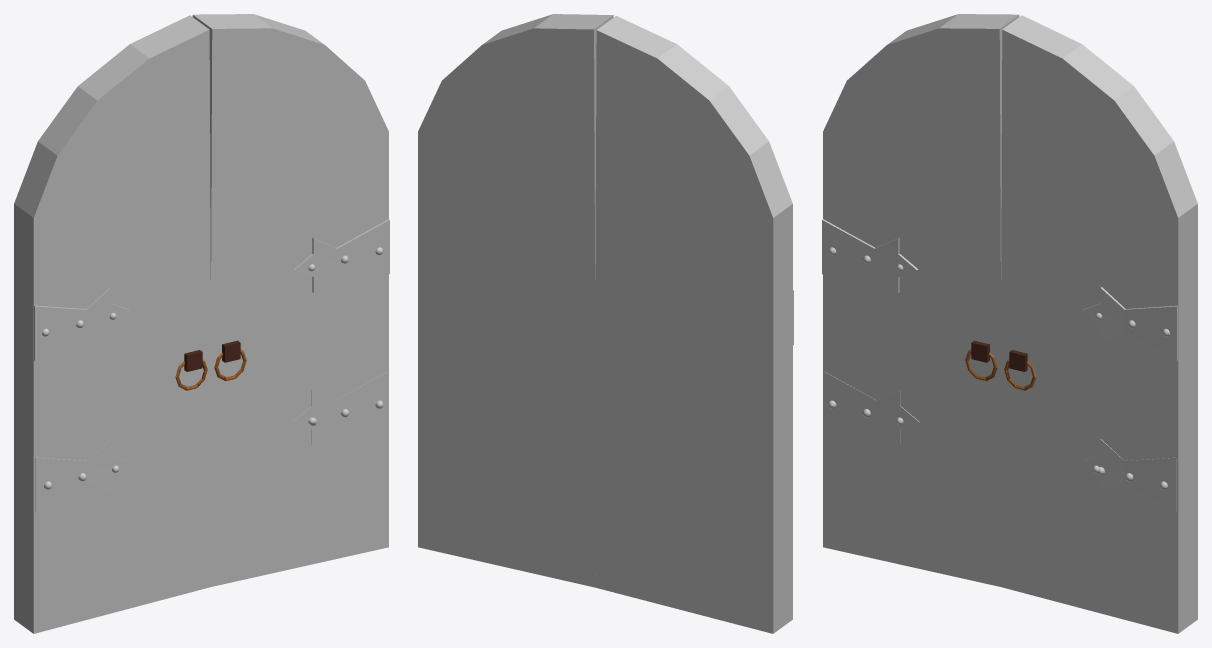
Rendered from pintu3.fbx.
3 views of the same model, side by side, from view 1: azimuth 30°, elevation 25°; view 2: azimuth 150°, elevation 25°; view 3: azimuth 330°, elevation 25° (orthographic).
Visible parts, largest first — view 1: Circle.008, Plane.001, Plane.002, Cube.007, Circle.011; view 2: Circle.008; view 3: Circle.008, Plane.001, Plane.002, Cube.007, Circle.011.
Boxes of the visible parts, x1,y1,x2,y2 form: Circle.008: (14,14,388,633); Plane.001: (34,219,389,360); Plane.002: (35,371,387,512); Cube.007: (184,340,240,371); Circle.011: (175,349,246,390); Circle.008: (418,14,792,633); Circle.008: (823,14,1197,633); Plane.001: (822,219,1177,360); Plane.002: (824,371,1176,512); Cube.007: (971,340,1027,371); Circle.011: (965,349,1036,390).
Size of the model in its own units: 549 by 829 by 65.38.
